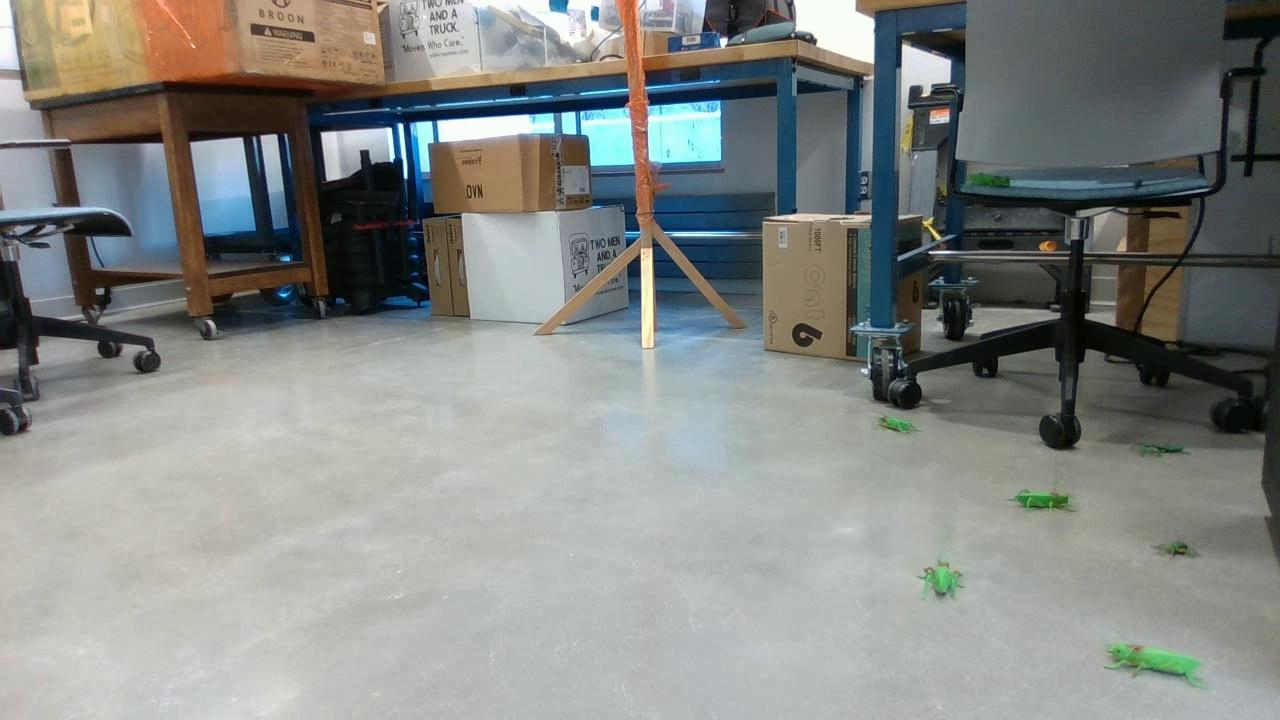grasshopper: (1104, 645, 1209, 693), (920, 558, 963, 606), (1017, 488, 1069, 514), (877, 416, 914, 440), (963, 173, 1013, 187)
